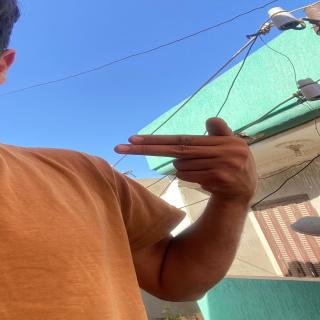GHAYN: (112, 111, 286, 194)
